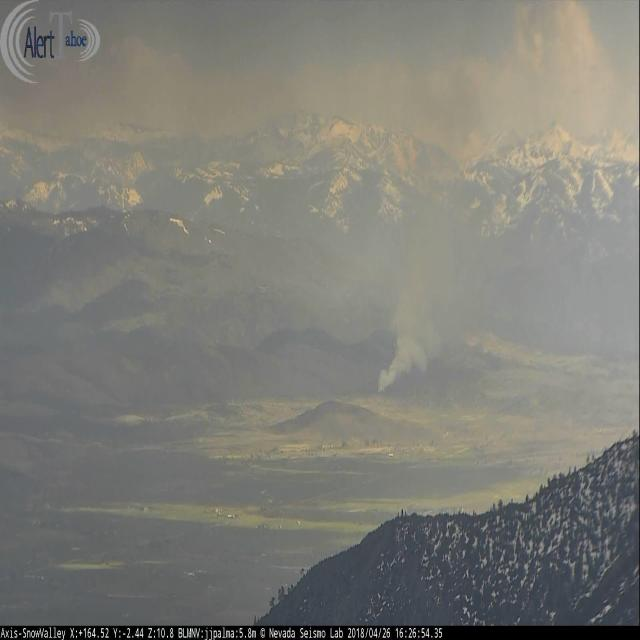smoke: (377, 197, 488, 394)
